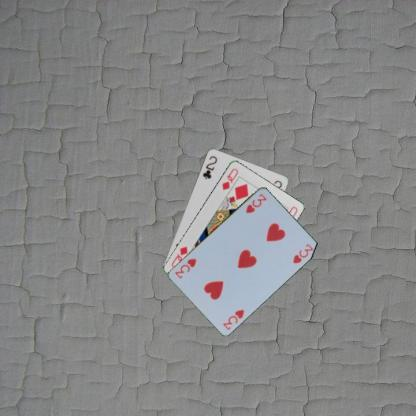2c: (200, 153, 218, 180)
3h: (220, 306, 246, 331), (243, 191, 268, 214)
Qd: (220, 165, 239, 191)
